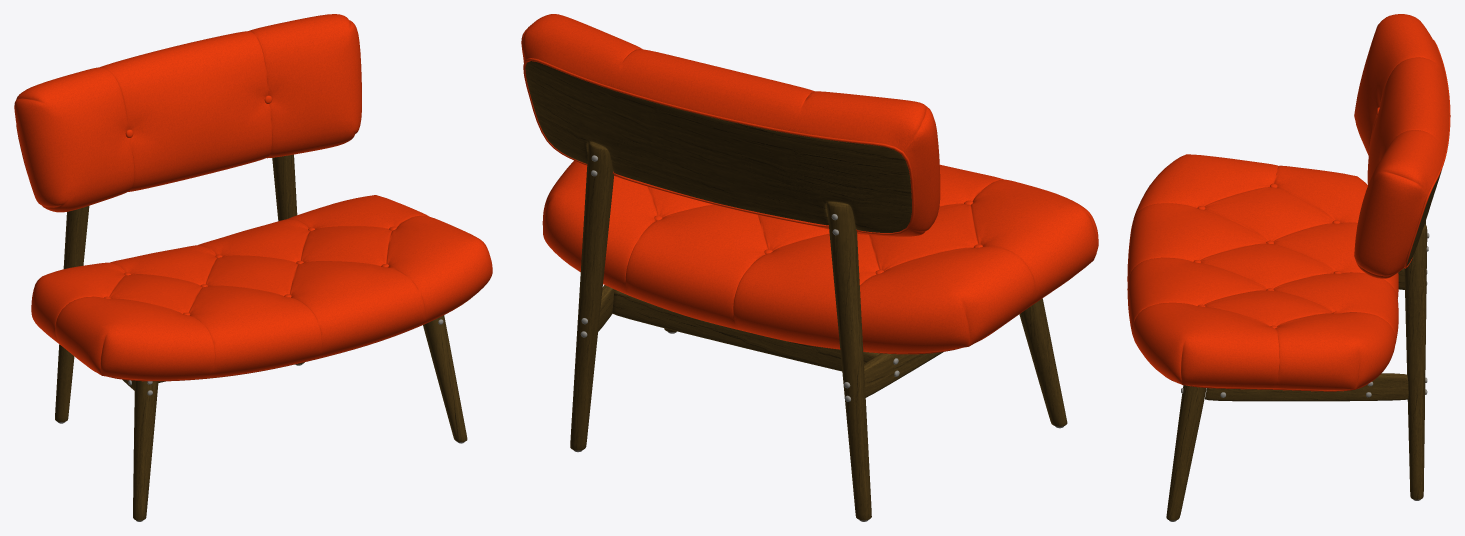
File: standin-glb-validation-sheenchair.glb
The picture shows the model from 3 angles, left to right: view 1: azimuth 30°, elevation 25°; view 2: azimuth 150°, elevation 25°; view 3: azimuth 270°, elevation 25°; orthographic projection. The views are drawn at different scales.
Parts seen in each view (by area): view 1: SheenChair_fabric, SheenChair_wood; view 2: SheenChair_fabric, SheenChair_wood; view 3: SheenChair_fabric, SheenChair_wood.
Part boxes in pixels (x1,y1,x2,y2): SheenChair_fabric: (14,14,492,381); SheenChair_wood: (55,154,467,520); SheenChair_fabric: (521,14,1098,354); SheenChair_wood: (525,61,1067,520); SheenChair_fabric: (1127,14,1450,391); SheenChair_wood: (1166,170,1441,520).
Size of the model in its own units: 0.8266 by 0.6863 by 0.5703.
4 materials, 3 textured.
